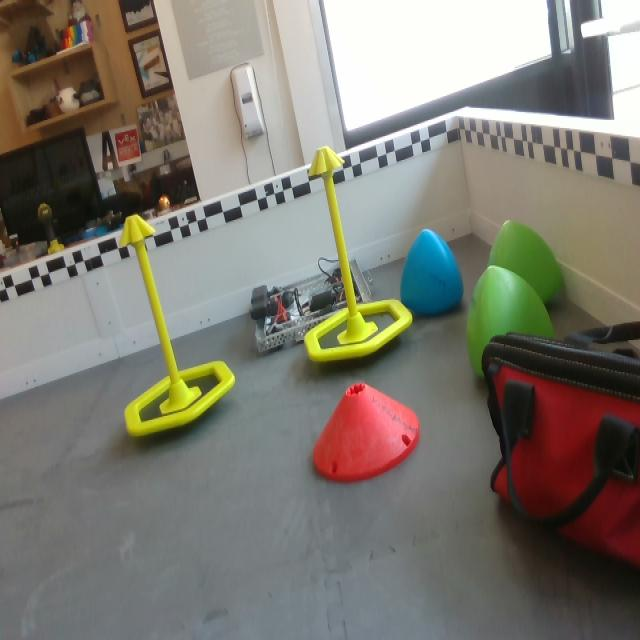Mobile-Goal: (114, 208, 245, 444), (304, 141, 416, 365)
Yellow-Stake-Head: (117, 213, 157, 248), (309, 146, 345, 177)
